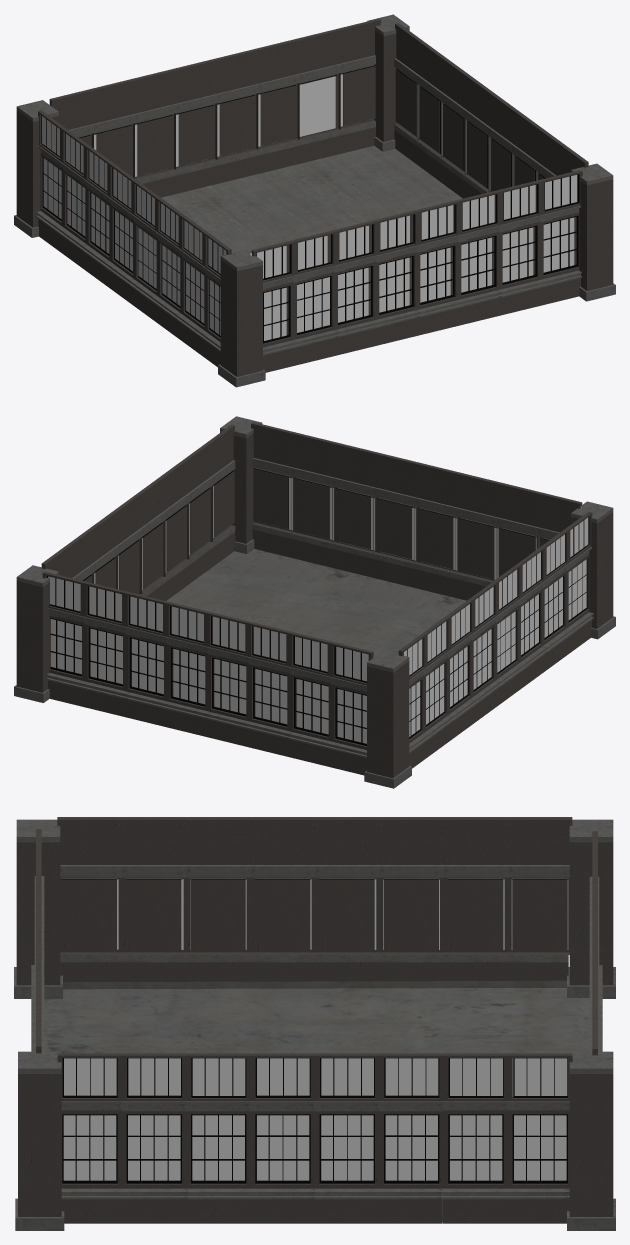
Rendered from Concrete Building Floor 0.fbx.
3 views of the same model, one above another, from view 1: azimuth 30°, elevation 25°; view 2: azimuth 150°, elevation 25°; view 3: azimuth 270°, elevation 25° (orthographic). The views are drawn at different scales.
Parts seen in each view (by area): view 1: Concrete_Floor_0, WIndows_Level_0; view 2: Concrete_Floor_0, WIndows_Level_0; view 3: Concrete_Floor_0, WIndows_Level_0.
Part boxes in pixels (x1=…): Concrete_Floor_0: x1=14, y1=14, x2=615, y2=387; WIndows_Level_0: x1=42, y1=74, x2=576, y2=340; Concrete_Floor_0: x1=14, y1=416, x2=615, y2=788; WIndows_Level_0: x1=48, y1=477, x2=588, y2=743; Concrete_Floor_0: x1=14, y1=817, x2=615, y2=1230; WIndows_Level_0: x1=63, y1=879, x2=568, y2=1180.
Bounding box in the file's own units: 1528 × 476 × 1547.
